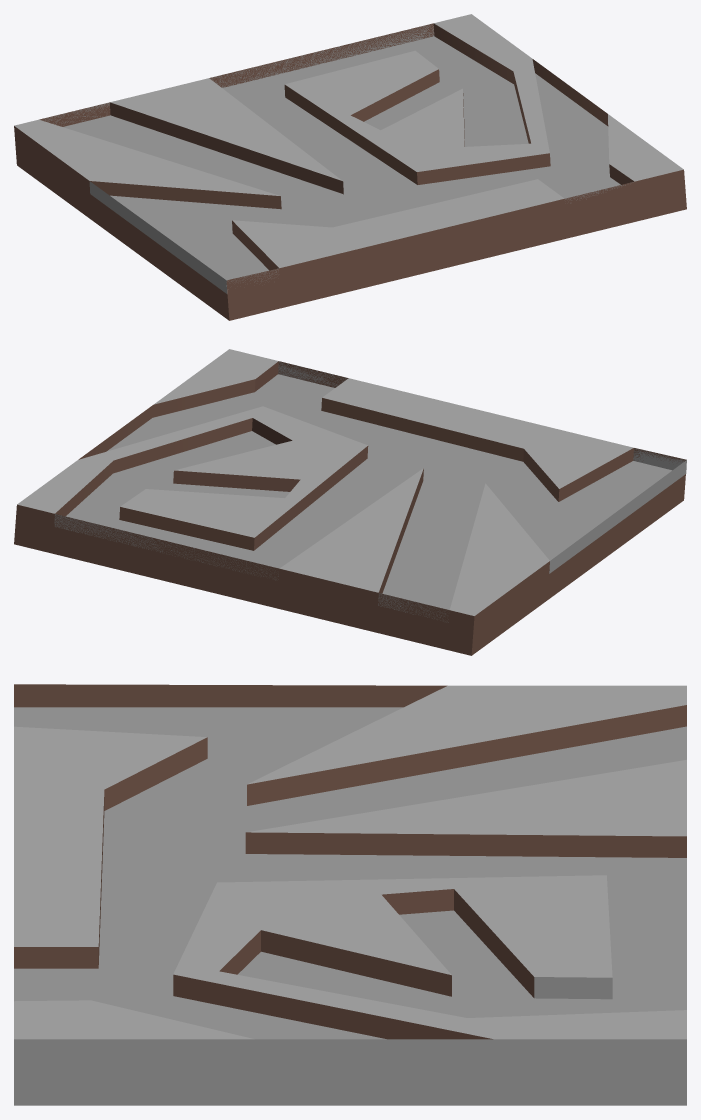
The model's file is ExportedFBXFile.fbx.
3 renders of one model, top to bottom at view 1: azimuth 30°, elevation 25°; view 2: azimuth 150°, elevation 25°; view 3: azimuth 270°, elevation 25°, orthographic. The views are drawn at different scales.
Parts seen in each view (by area): view 1: pCube1; view 2: pCube1; view 3: pCube1.
Boxes of the visible parts, <box> form: pCube1: <box>14,14,686,320</box>; pCube1: <box>14,349,686,655</box>; pCube1: <box>14,684,686,1105</box>.
Bounding box in the file's own units: 257 × 22.04 × 205.
